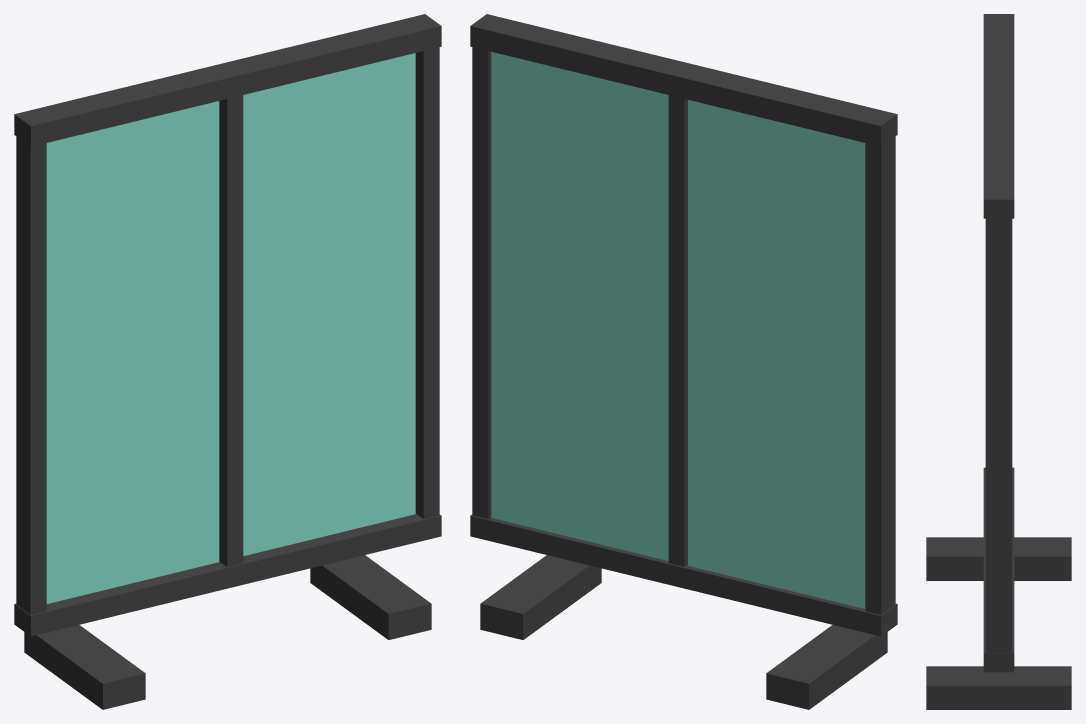
3 views of the same model, side by side, from view 1: azimuth 30°, elevation 25°; view 2: azimuth 150°, elevation 25°; view 3: azimuth 270°, elevation 25° (orthographic). The views are drawn at different scales.
Visible parts, largest first — view 1: Forward blue glazing, Forward blue glazing.001, Bridge window frame.001, Window mullion, Bridge window frame, Window mullion.001, Window mullion.002, Window base foot, Window base foot.001; view 2: Forward blue glazing, Forward blue glazing.001, Bridge window frame.001, Window mullion, Bridge window frame, Window mullion.001, Window mullion.002, Window base foot, Window base foot.001; view 3: Window mullion.002, Bridge window frame.001, Window base foot.001, Window base foot, Bridge window frame.
Boxes of the visible parts, x1=… form: Forward blue glazing: x1=46, y1=101, x2=219, y2=603; Forward blue glazing.001: x1=243, y1=53, x2=415, y2=555; Bridge window frame.001: x1=14, y1=14, x2=441, y2=146; Window mullion: x1=16, y1=136, x2=46, y2=614; Bridge window frame: x1=14, y1=513, x2=441, y2=636; Window mullion.001: x1=219, y1=95, x2=243, y2=566; Window mullion.002: x1=415, y1=47, x2=439, y2=518; Window base foot: x1=24, y1=625, x2=145, y2=709; Window base foot.001: x1=310, y1=555, x2=431, y2=639; Forward blue glazing: x1=688, y1=100, x2=865, y2=608; Forward blue glazing.001: x1=491, y1=52, x2=668, y2=560; Bridge window frame.001: x1=470, y1=14, x2=897, y2=146; Window mullion: x1=865, y1=136, x2=895, y2=614; Bridge window frame: x1=470, y1=514, x2=897, y2=636; Window mullion.001: x1=668, y1=95, x2=687, y2=566; Window mullion.002: x1=472, y1=47, x2=491, y2=518; Window base foot: x1=766, y1=625, x2=887, y2=709; Window base foot.001: x1=480, y1=555, x2=601, y2=639; Window mullion.002: x1=985, y1=218, x2=1012, y2=652; Bridge window frame.001: x1=983, y1=14, x2=1014, y2=218; Window base foot.001: x1=926, y1=666, x2=1071, y2=709; Window base foot: x1=926, y1=537, x2=1071, y2=580; Bridge window frame: x1=983, y1=467, x2=1014, y2=672.
Size of the model in its own units: 1.15 by 1.53 by 0.38.
1 material, 1 textured.
